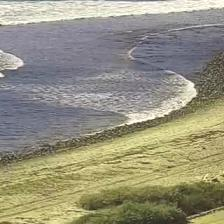surfer: (30, 14, 35, 17)
